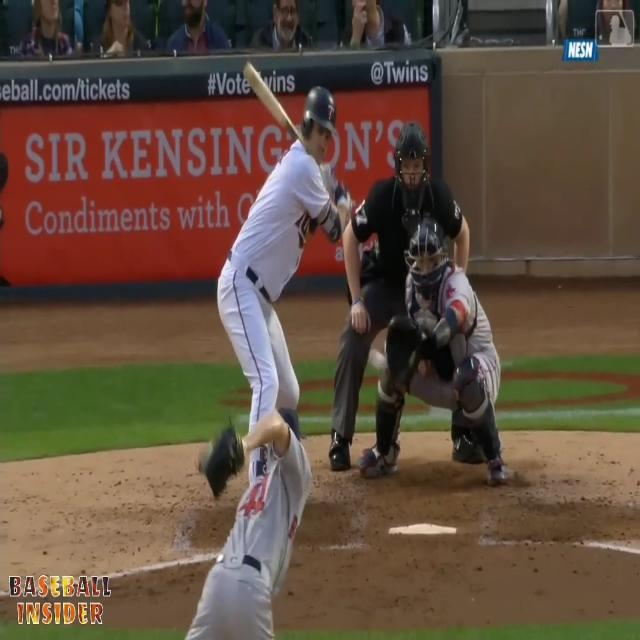baseball: (372, 350, 386, 370)
